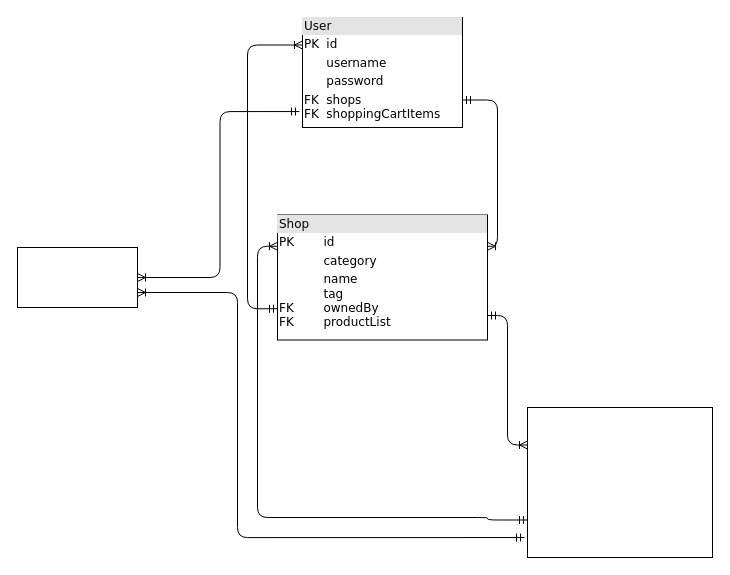
This 730x575 diagram has some shape labels left out. Here are the shapes that lost their labels. From the top down, the centre of each, then its label:
point (77, 277): UserShoppingCart PK FK products PK FK users
point (619, 482): Product PK id inventoryNumber name description FK FK imageUrl shop users
